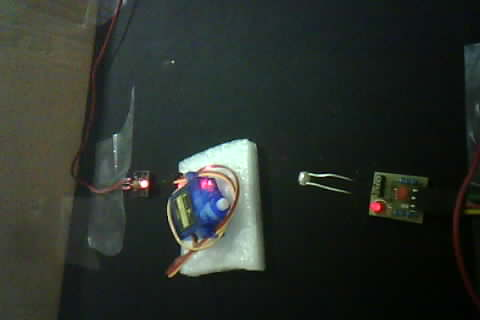motor: (163, 137, 268, 278)
